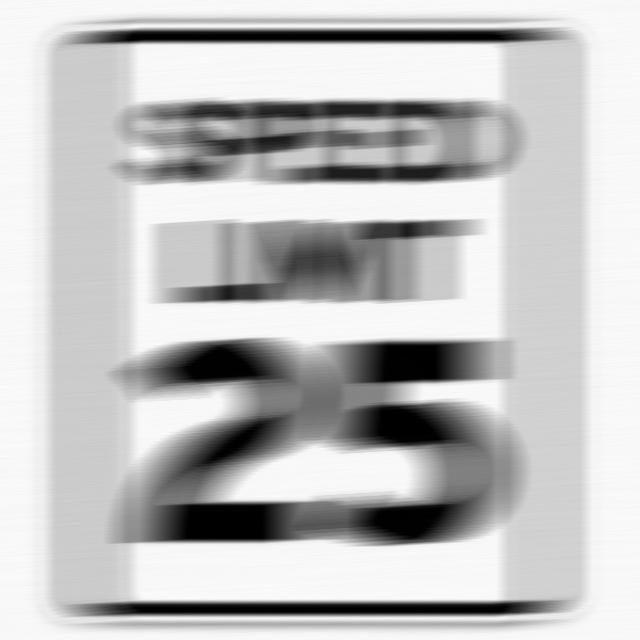speedLimit25: (62, 21, 565, 622)
